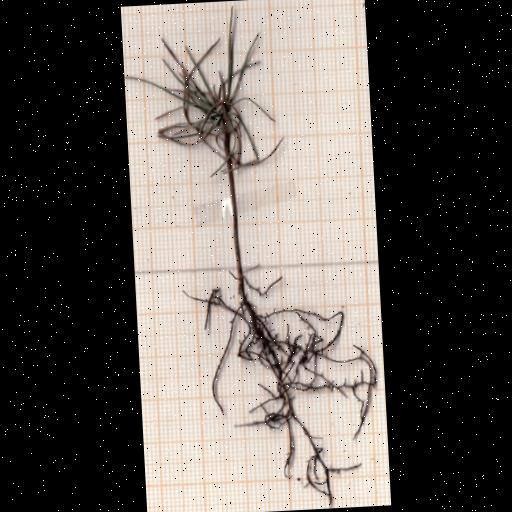flowerCedr: (129, 6, 284, 174)
rootCedr: (192, 276, 378, 506)
stemCedr: (229, 170, 244, 277)
